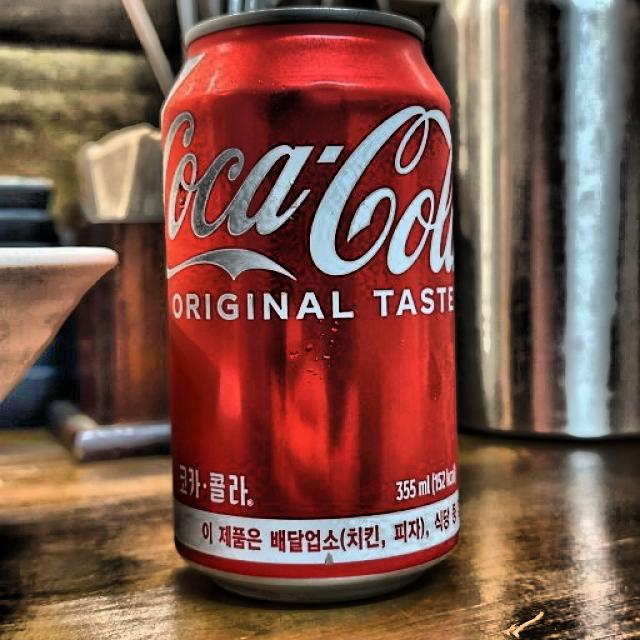cocacola: (150, 3, 478, 603)
